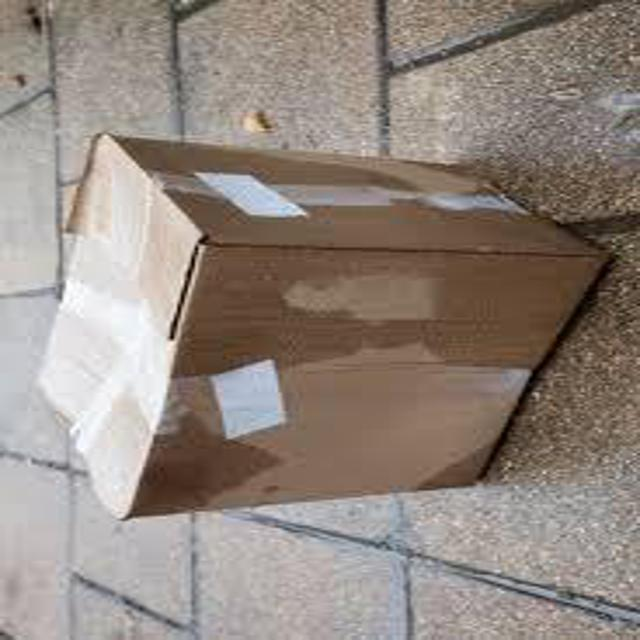defect: (32, 128, 608, 527)
